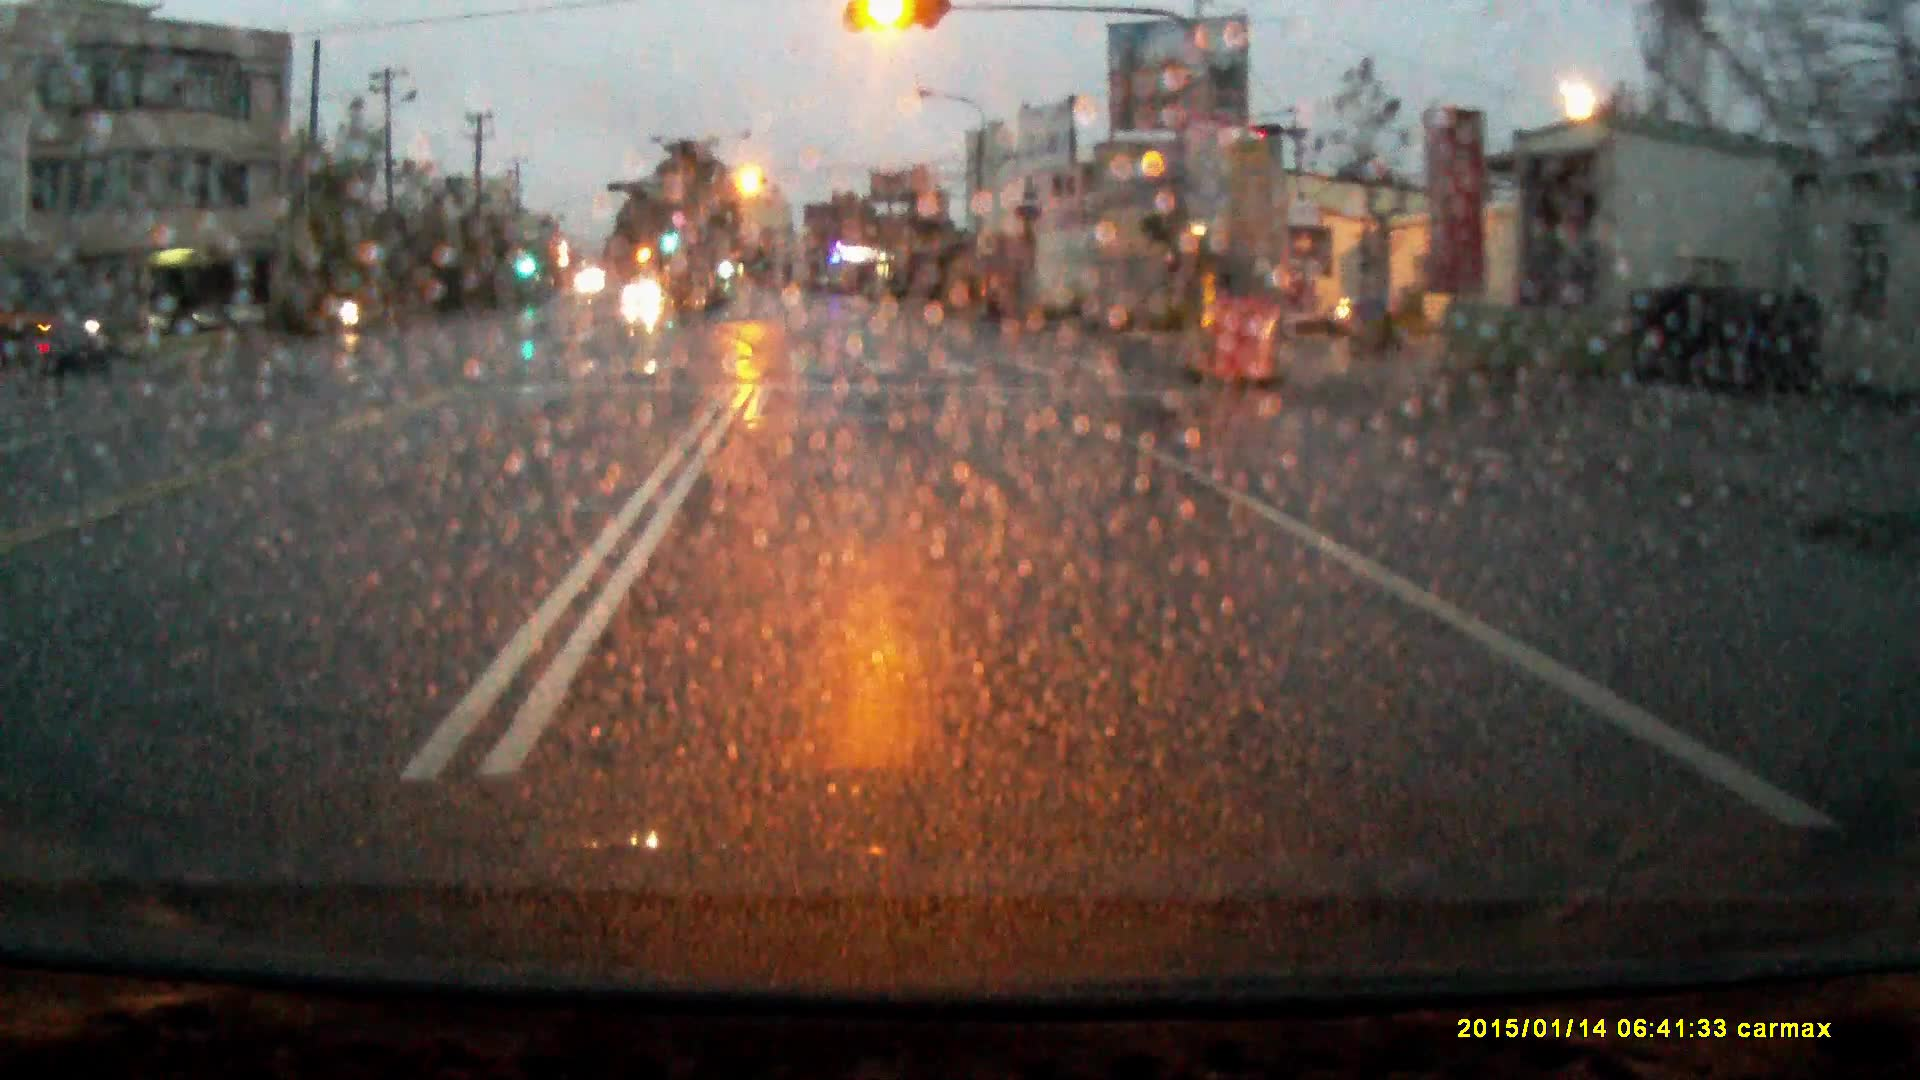rider: (338, 266, 367, 335)
vehicle: (623, 280, 664, 308)
